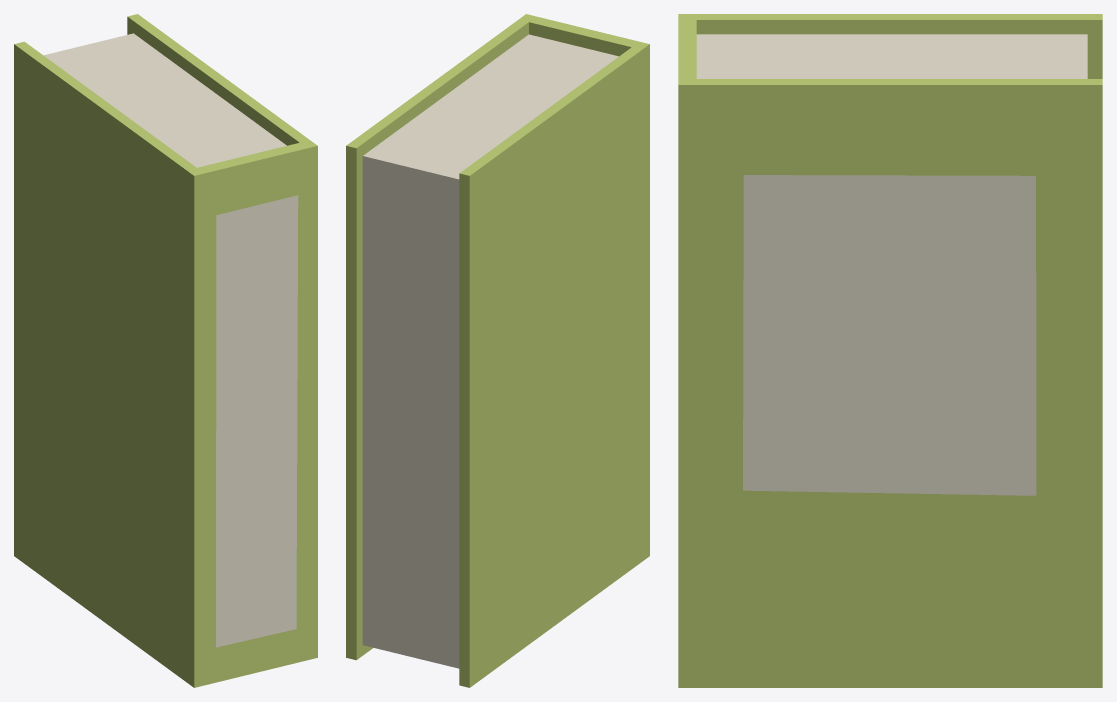
Rendered from book9.fbx.
3 views of the same model, side by side, from view 1: azimuth 30°, elevation 25°; view 2: azimuth 150°, elevation 25°; view 3: azimuth 270°, elevation 25° (orthographic). The views are drawn at different scales.
Parts seen in each view (by area): view 1: Boole_4; view 2: Boole_4; view 3: Boole_4.
Boxes of the visible parts, x1,y1,x2,y2 form: Boole_4: (14, 14, 317, 687); Boole_4: (346, 14, 649, 687); Boole_4: (678, 14, 1102, 687).
Bounding box in the file's own units: 11.73 × 46.4 × 29.58.
